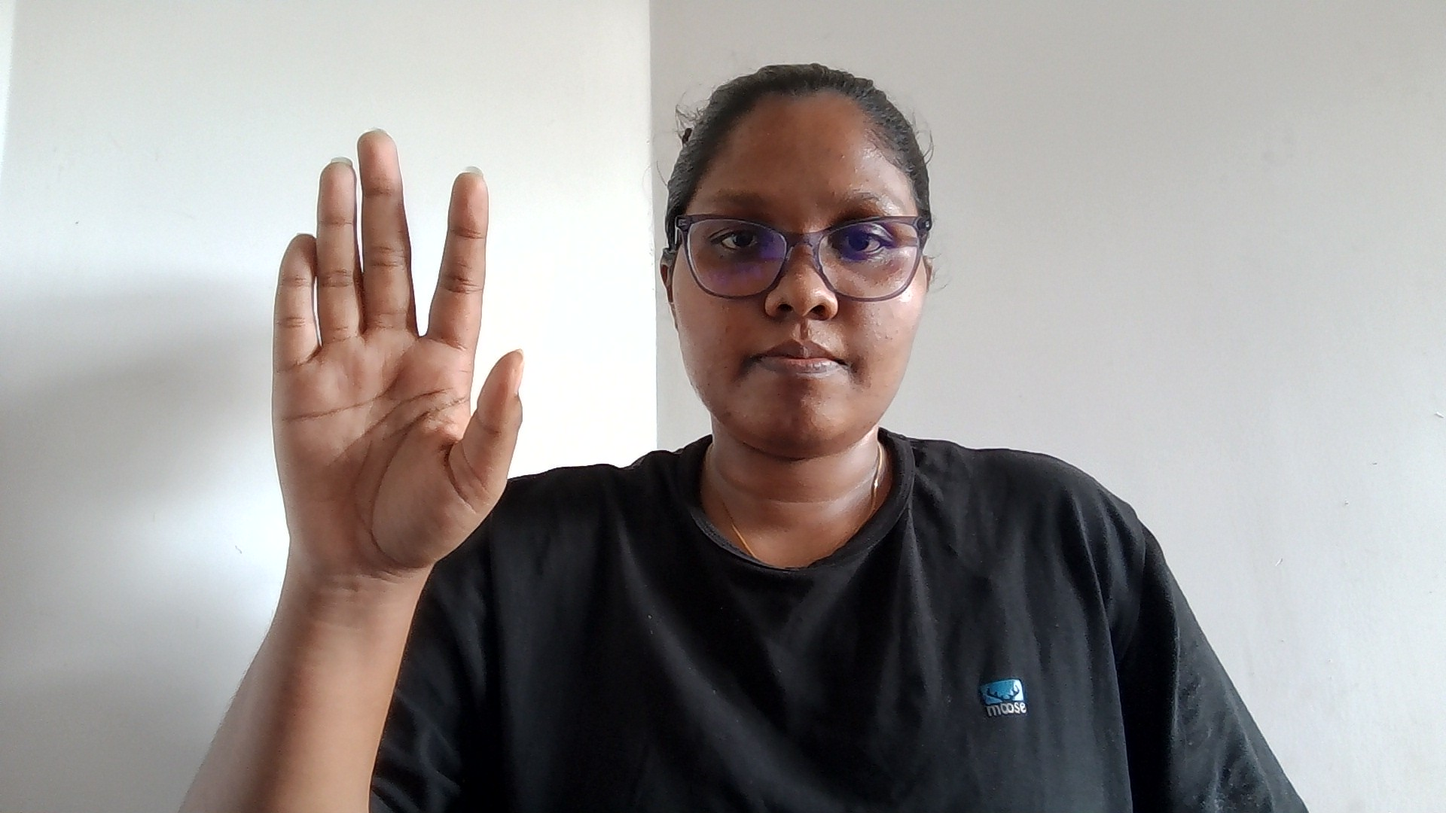Hello: (215, 58, 561, 675)
